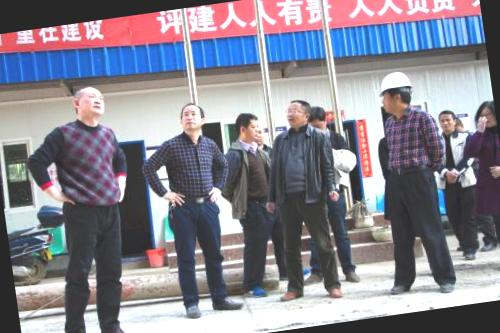no_helmet: (69, 80, 109, 125), (174, 100, 208, 139), (230, 108, 262, 146), (283, 94, 315, 130), (471, 98, 497, 138), (306, 102, 330, 138), (434, 106, 458, 136), (250, 124, 268, 148)
